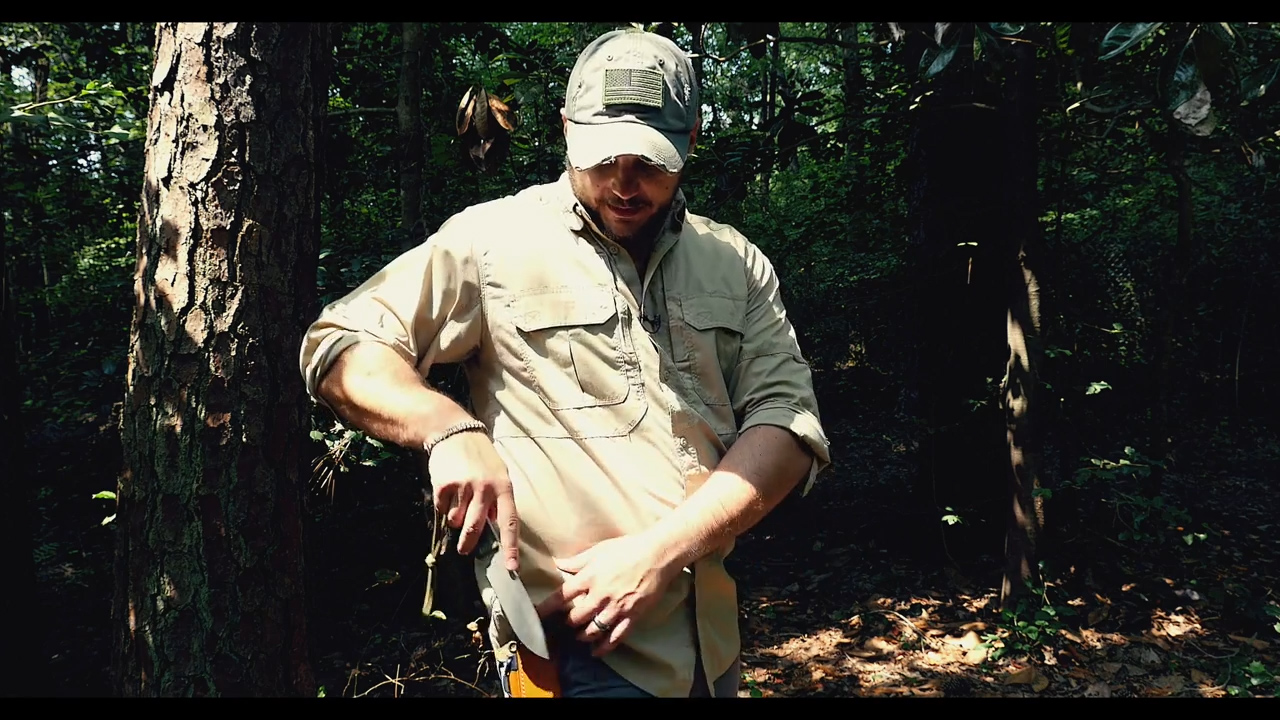knife: (448, 492, 554, 664)
